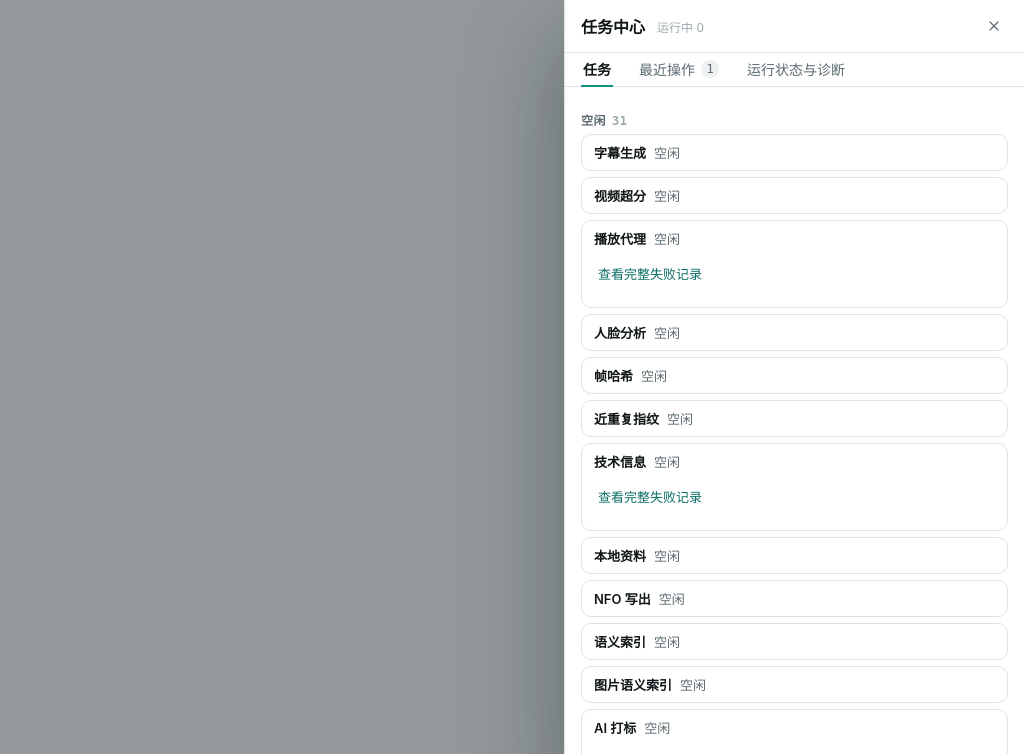
Test: 最近操作（D-UD-09） › 点「撤销」执行一次既有的恢复接口，成功后这条从列表消失
Click the tab with test id "task-center-tab-recent".
click(679, 70)  # box [637,53,721,87]
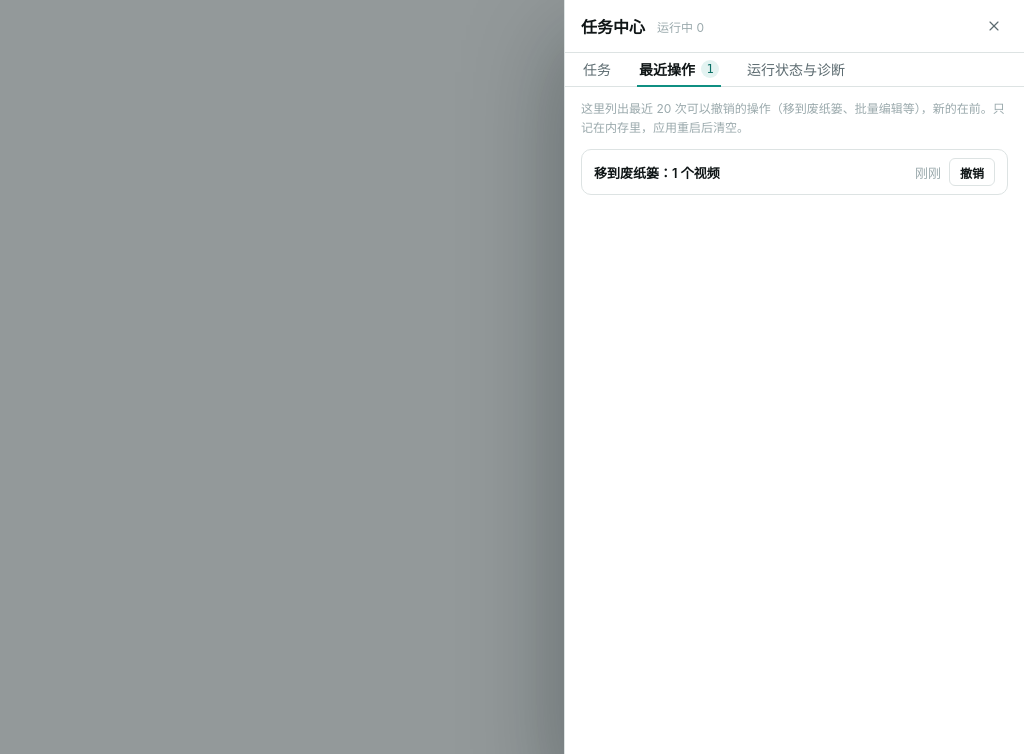
Click the button "撤销".
click(972, 172)  # box [949,158,995,186]
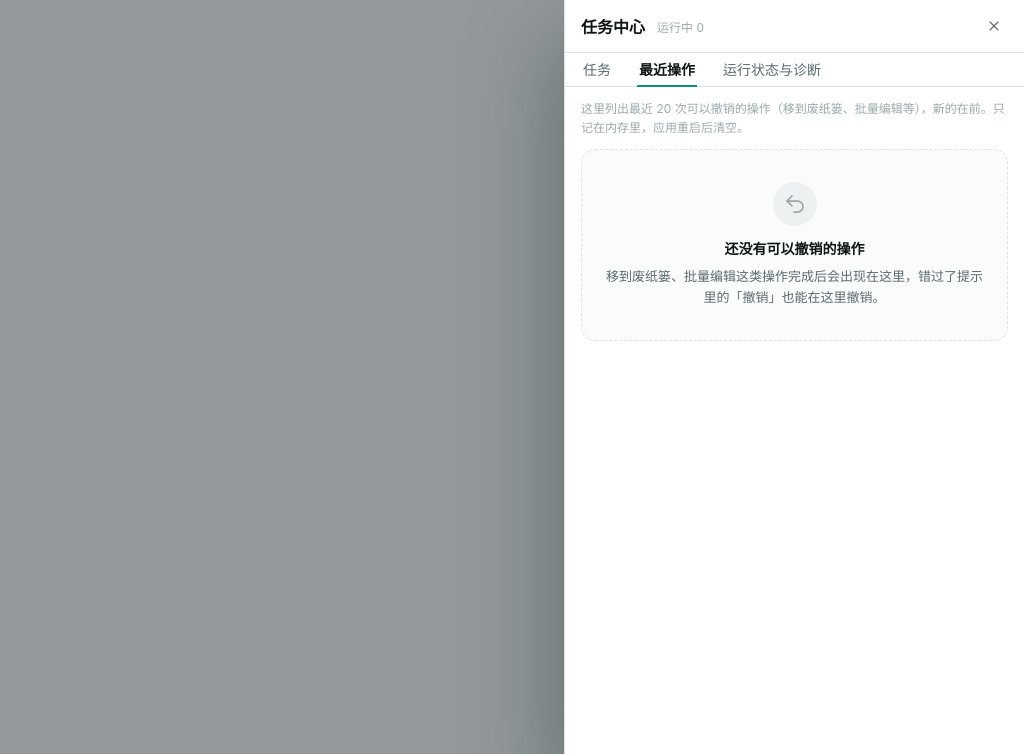
Now the element with test id "task-center-operations-empty" is shown, box [581,149,1008,341]
